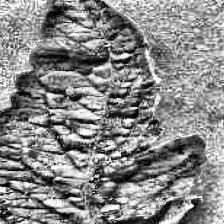disease: (0, 0, 202, 224)
